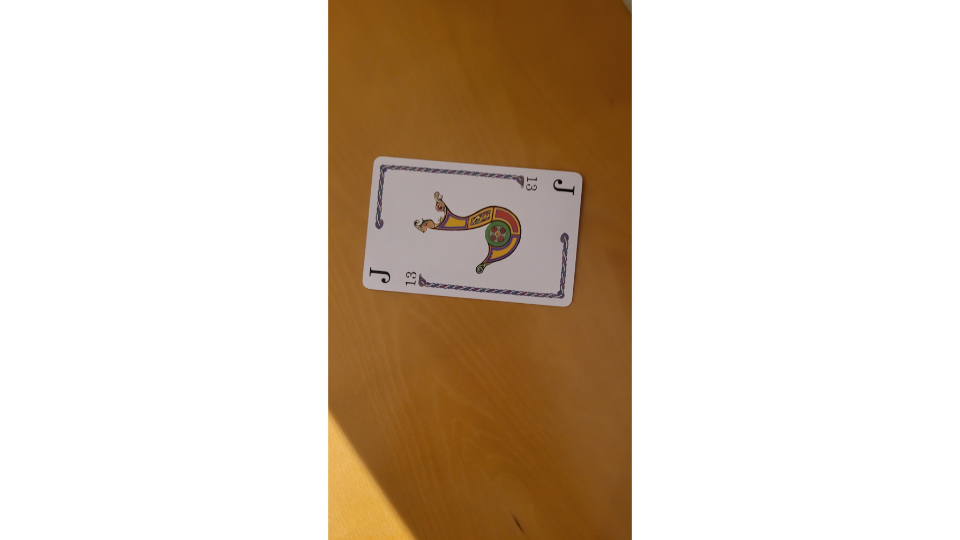J: (360, 155, 586, 311)
